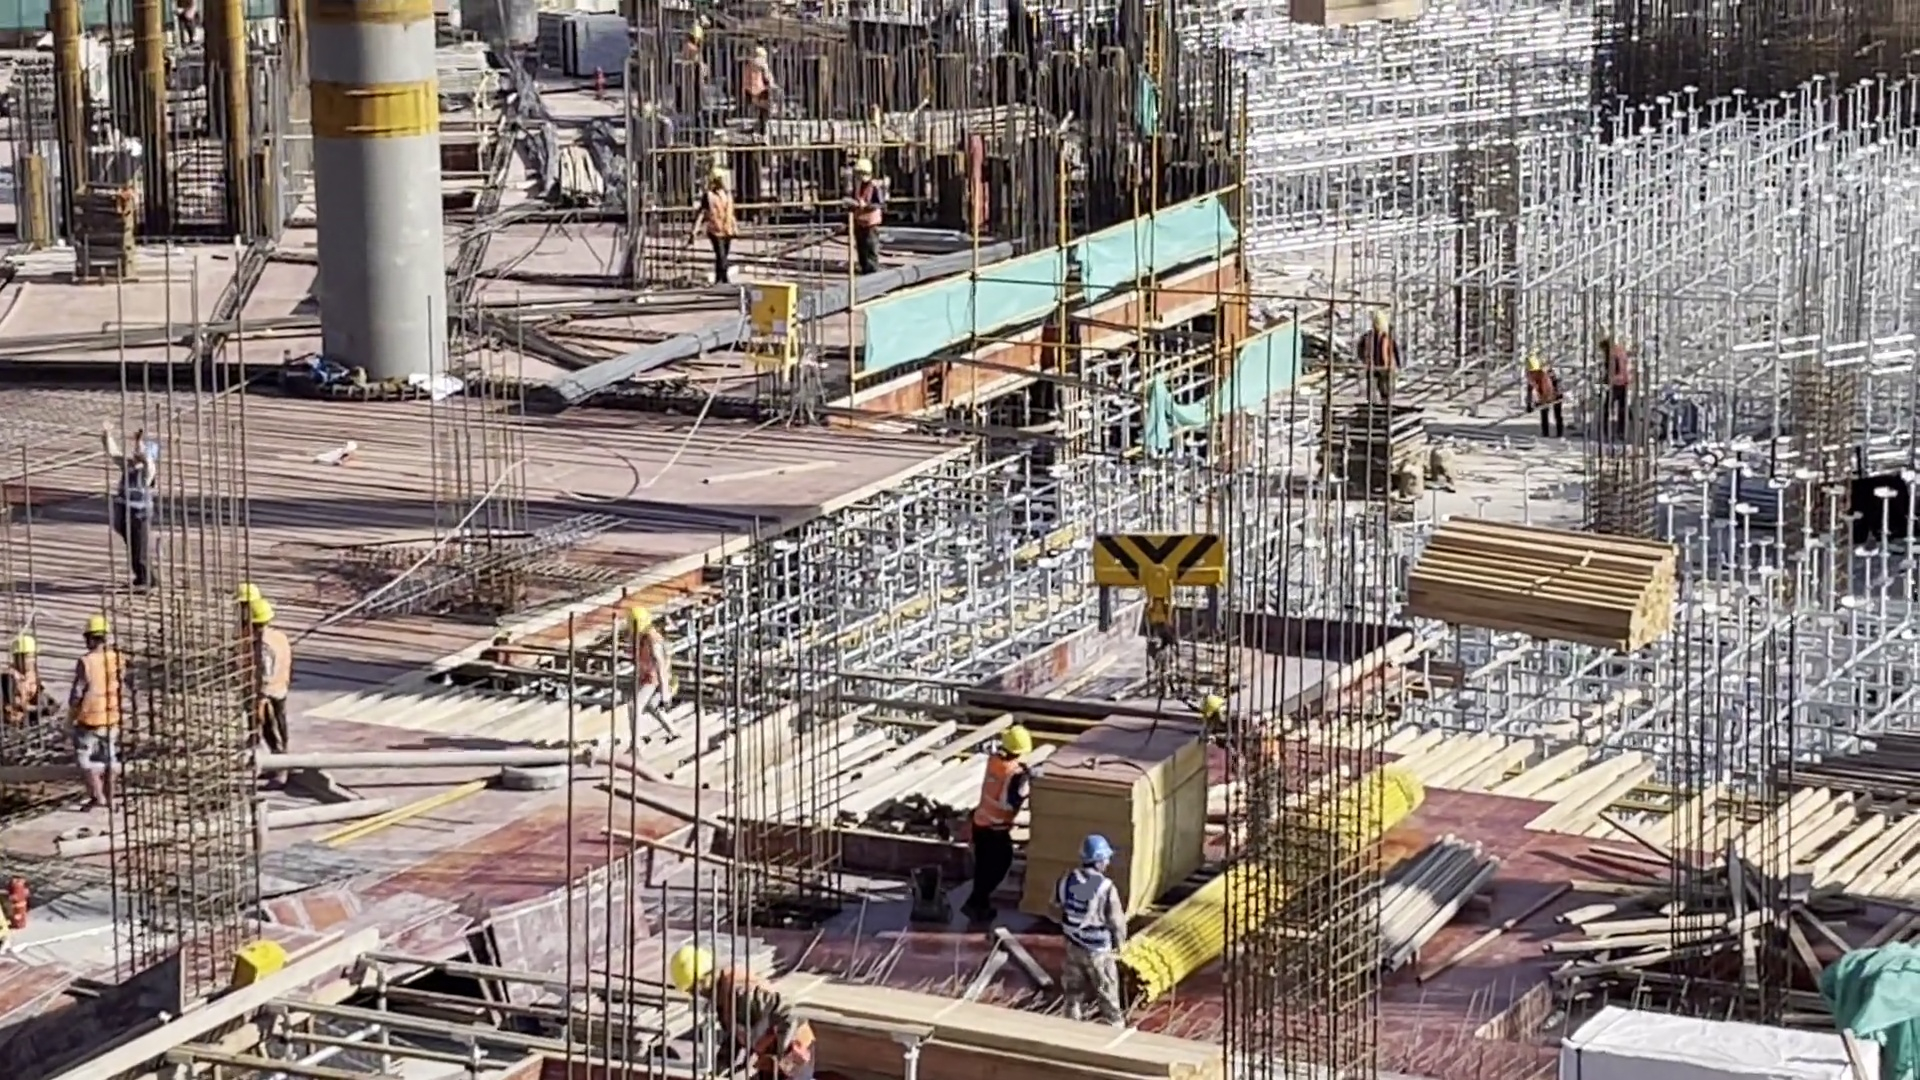helmet: (681, 947, 723, 993), (621, 594, 664, 631), (990, 725, 1034, 760), (83, 607, 119, 648), (1203, 684, 1234, 725), (1083, 833, 1111, 872), (858, 148, 879, 183), (14, 634, 39, 662), (1585, 318, 1615, 338), (741, 38, 761, 65), (139, 427, 154, 459), (261, 606, 279, 630), (714, 169, 731, 191), (1528, 350, 1550, 364), (686, 24, 705, 38), (243, 587, 259, 601), (1366, 318, 1380, 330)
person: (675, 941, 832, 1080), (956, 720, 1043, 920), (1203, 681, 1293, 854), (1059, 823, 1136, 1024), (62, 617, 124, 805), (106, 421, 164, 591), (250, 595, 303, 761), (625, 611, 680, 738), (693, 161, 743, 283), (1, 622, 46, 750), (1595, 329, 1640, 447), (1363, 304, 1412, 404), (845, 159, 885, 265), (1522, 348, 1568, 438), (748, 40, 787, 137), (236, 575, 259, 707), (683, 22, 715, 115), (174, 1, 197, 43)
vest: (1068, 867, 1130, 945), (1234, 708, 1285, 784), (83, 654, 131, 734), (980, 760, 1029, 830), (121, 454, 155, 541), (5, 670, 46, 727), (265, 627, 293, 706), (734, 62, 775, 107), (1366, 328, 1397, 375), (639, 632, 665, 685), (1602, 340, 1627, 391), (709, 189, 734, 237), (687, 46, 713, 92), (852, 183, 875, 233), (1542, 365, 1563, 412), (180, 1, 201, 34), (245, 599, 246, 677)
